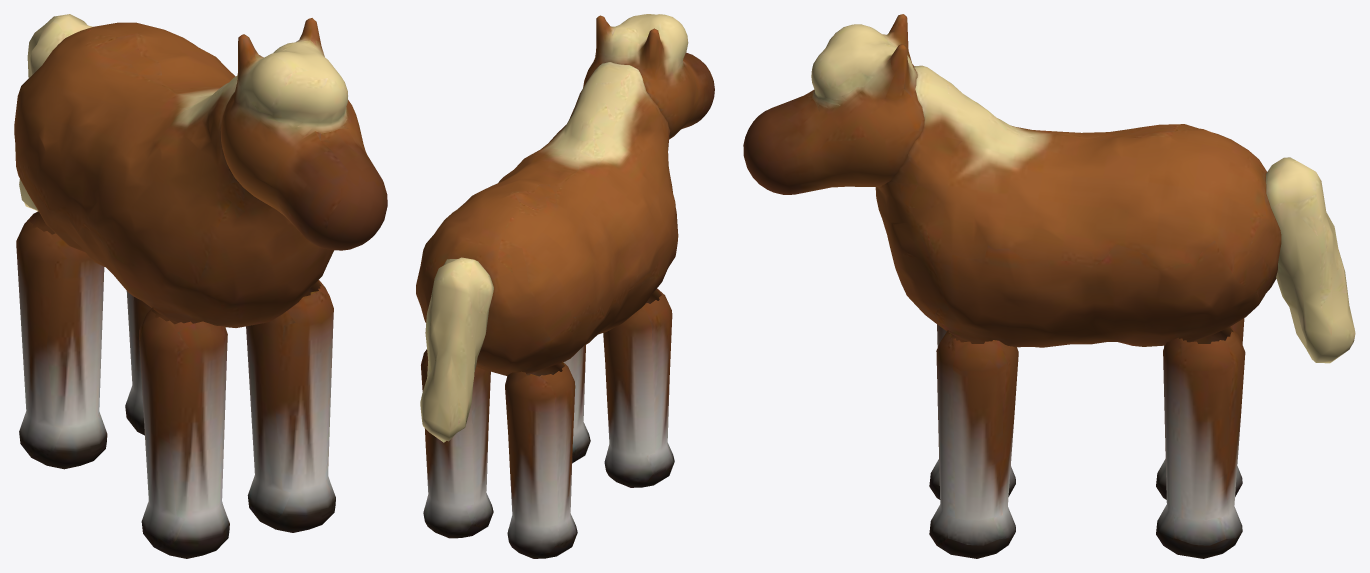
The model's file is animal_pony.glb.
The picture shows the model from 3 angles, left to right: view 1: azimuth 30°, elevation 25°; view 2: azimuth 150°, elevation 25°; view 3: azimuth 270°, elevation 25°; orthographic projection. The views are drawn at different scales.
Parts seen in each view (by area): view 1: animal_pony, head, leg0, leg2, leg1, tail, leg3; view 2: animal_pony, leg2, leg0, tail, head, leg3, leg1; view 3: animal_pony, head, leg3, leg1, tail.
Boxes of the visible parts, x1,y1,x2,y2 form: animal_pony: (14,22,333,327); head: (220,18,387,250); leg0: (139,307,229,558); leg2: (16,211,107,469); leg1: (246,280,335,532); tail: (19,14,92,211); leg3: (125,291,151,435); animal_pony: (416,62,678,375); leg2: (505,361,577,558); leg0: (603,288,674,487); tail: (420,257,493,442); head: (583,14,714,139); leg3: (421,349,493,538); leg1: (563,344,590,462); animal_pony: (875,65,1281,347); head: (743,14,924,194); leg3: (1156,326,1245,558); leg1: (929,330,1018,558); tail: (1266,157,1355,363).
Size of the model in its own units: 0.2349 by 0.5855 by 0.6484.
1 material, 1 textured.
